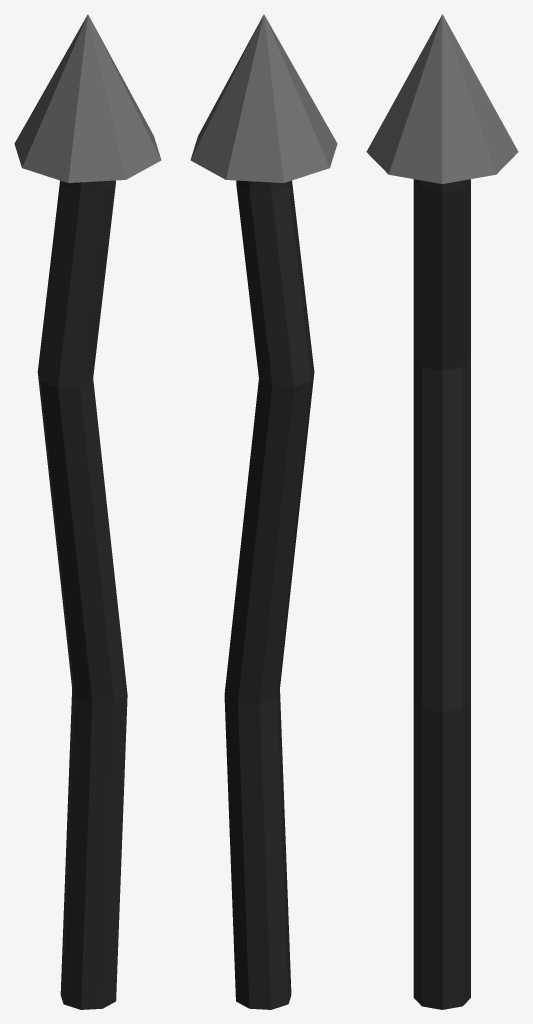
The model's file is spike_type_01.fbx.
3 renders of one model, left to right at view 1: azimuth 30°, elevation 25°; view 2: azimuth 150°, elevation 25°; view 3: azimuth 270°, elevation 25°, orthographic.
Parts seen in each view (by area): view 1: spike_type_01; view 2: spike_type_01; view 3: spike_type_01.
Part boxes in pixels (left/top/right/bottom): spike_type_01: left=14, top=14, right=161, bottom=1009; spike_type_01: left=190, top=14, right=337, bottom=1009; spike_type_01: left=366, top=14, right=518, bottom=1009.
Bounding box in the file's own units: 9.95 × 70.95 × 9.95.
